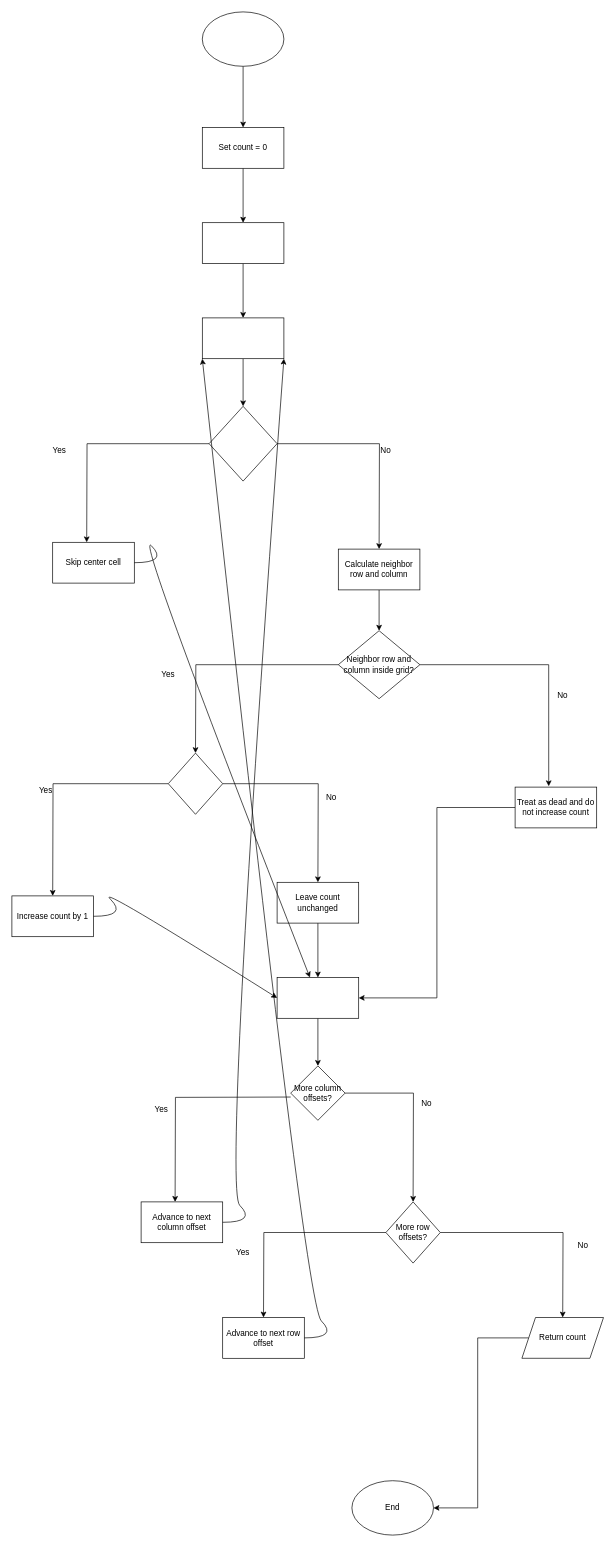
This 615x1547 diagram has some shape labels left out. The box of each missing label's shape, as (x1, y1, x2, y2) in pixels:
Continue to next column offset: (276, 977, 359, 1018)
Loop column offset from -1 to 1: (202, 317, 284, 359)
Loop row offset from -1 to 1: (202, 222, 284, 264)
Neighbor cell alive?: (168, 752, 223, 814)
Row offset = 0 AND column offset = 0?: (208, 406, 277, 481)
Start: (202, 11, 284, 66)
